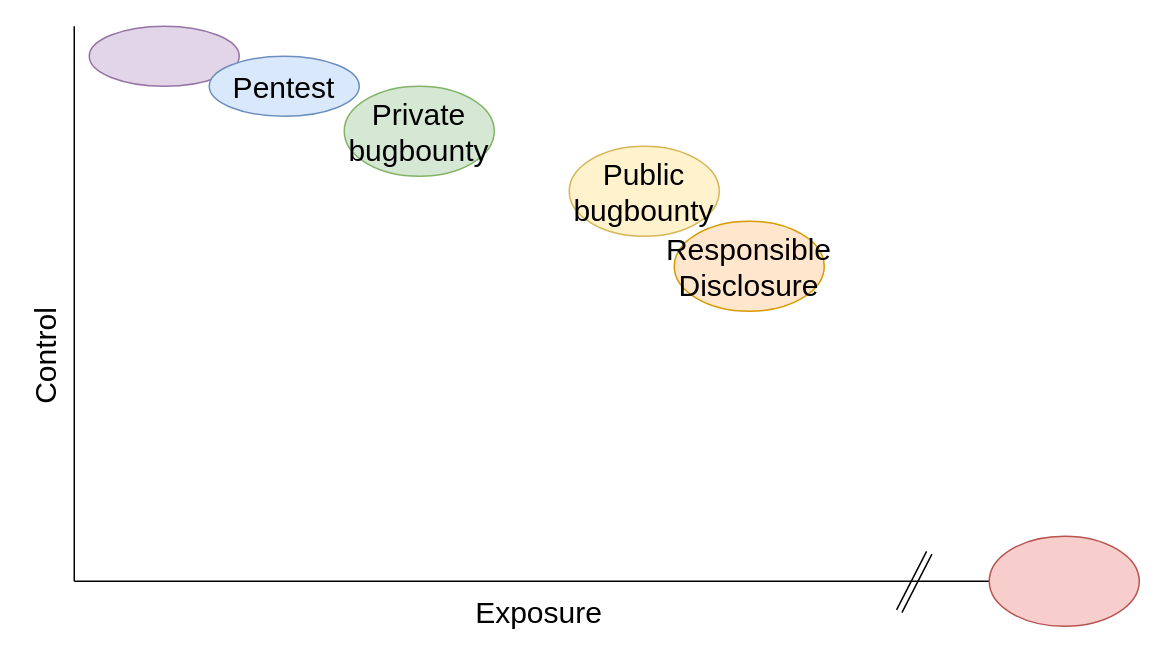
The diagram is 1169 pixels wide and 656 high, and some of its shapes have lost their labels. The centre of each missing label's shape, as x and y in pixels:
Internal: the point at 163,55
Unhackable: the point at 1063,580
